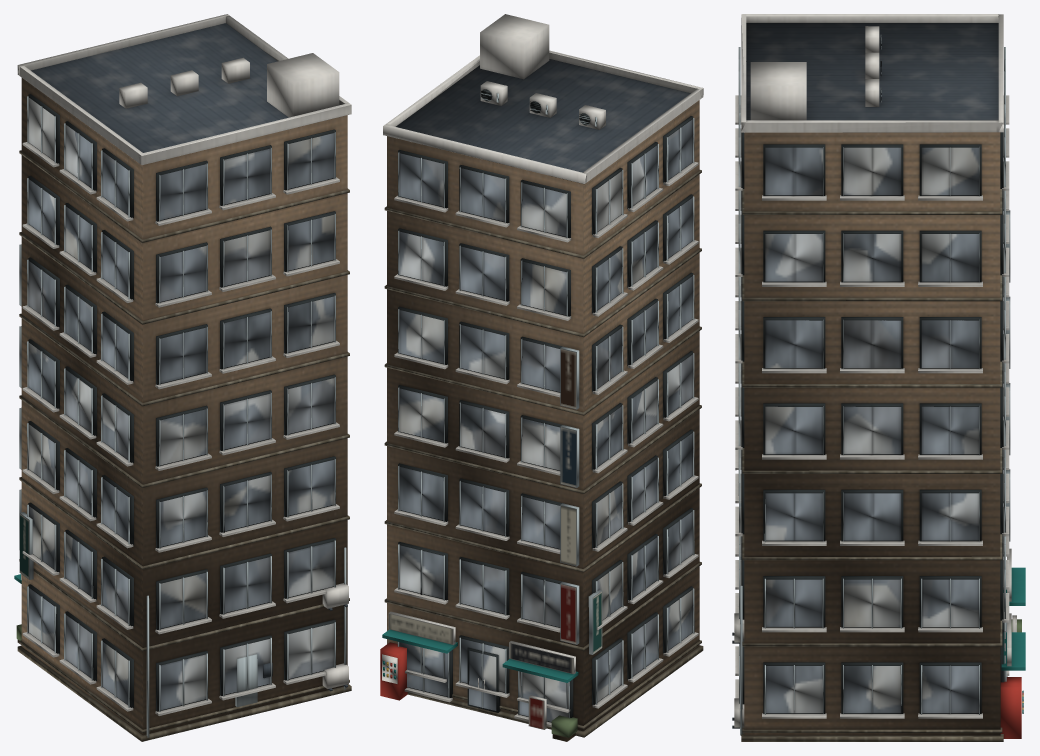
Rendered from office_005.lod1.obj.
3 views of the same model, side by side, from view 1: azimuth 30°, elevation 25°; view 2: azimuth 150°, elevation 25°; view 3: azimuth 270°, elevation 25° (orthographic). The views are drawn at different scales.
Visible parts, largest first — view 1: office_005; view 2: office_005; view 3: office_005.
Part boxes in pixels (box(x1,y1,x2,y2)): office_005: box(14, 14, 351, 741); office_005: box(380, 14, 703, 741); office_005: box(732, 14, 1025, 741).
Bounding box in the file's own units: 8.57 × 23.05 × 9.4.
1 material, 1 textured.
